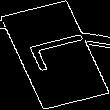L_E: (16, 32, 94, 78)
